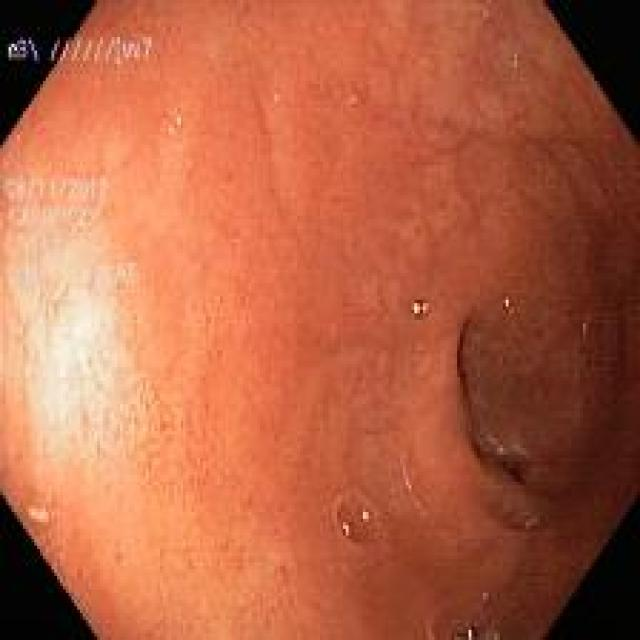ulcerative-colitis-grade-1: (0, 3, 599, 639)
